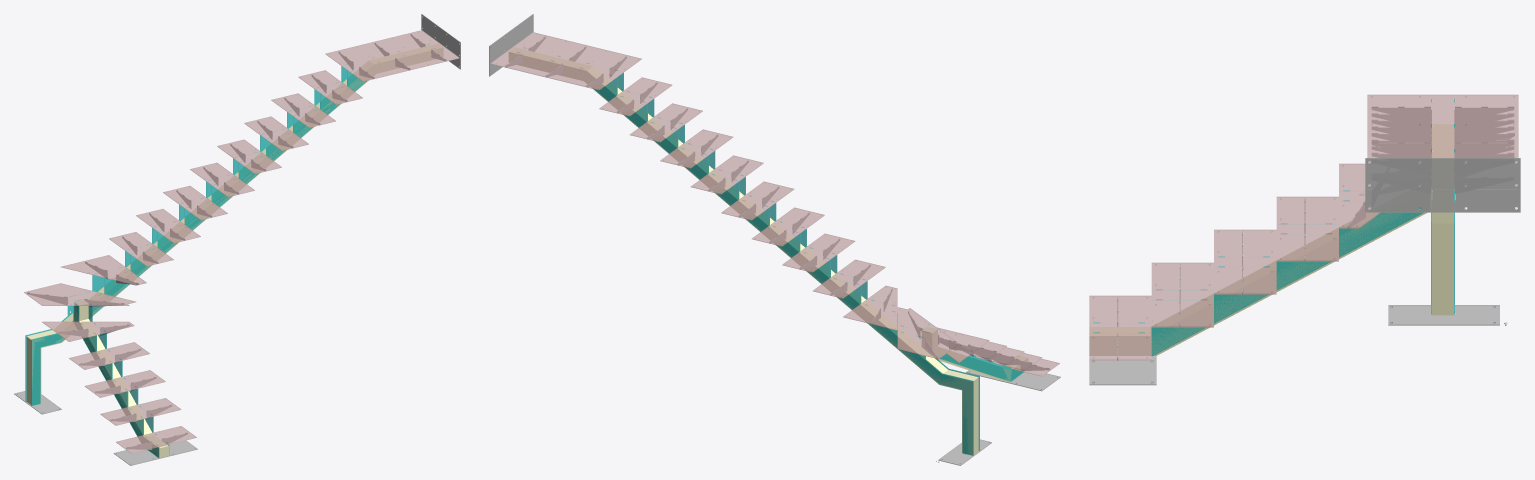
Rendered from stadia2.glb.
3 renders of one model, left to right at view 1: azimuth 30°, elevation 25°; view 2: azimuth 150°, elevation 25°; view 3: azimuth 270°, elevation 25°, orthographic. The views are drawn at different scales.
Parts seen in each view (by area): view 1: Труба_100_100_Б, instance_17.034, Косоур_БП, Труба_100_100_М, instance_15.004, Косоур_БЛ.001, instance_16.018, instance_14.011, Ступень__пластина.137, Ступень__пластина.056, Ступень__пластина.245, Ступень__пластина.029 (+12 smaller); view 2: Труба_100_100_Б, instance_17.034, Косоур_БЛ.001, instance_15.004, Труба_100_100_М, instance_16.018, Ступень__пластина.272, Ступень__пластина.002, Ступень__пластина.164, Ступень__пластина.083, Ступень__пластина.218, Ступень__пластина.299 (+7 smaller); view 3: instance_17.034, Труба_100_100_М, Опора_верх.003, Косоур_МП, Ступень__пластина.029, Ступень__пластина.056, Ступень__пластина.137, Ступень__пластина.245, Труба_100_100_Б, Опора_сер.004, instance_14.011, Опора_низ (+4 smaller).
Boxes of the visible parts, left/top/right/bottom form: Труба_100_100_Б: left=26, top=44, right=443, bottom=405; instance_17.034: left=325, top=30, right=459, bottom=81; Косоур_БП: left=31, top=48, right=435, bottom=405; Труба_100_100_М: left=74, top=300, right=168, bottom=458; instance_15.004: left=24, top=283, right=135, bottom=305; Косоур_БЛ.001: left=25, top=43, right=429, bottom=401; instance_16.018: left=61, top=255, right=146, bottom=285; instance_14.011: left=42, top=321, right=134, bottom=341; Ступень__пластина.137: left=84, top=370, right=165, bottom=397; Ступень__пластина.056: left=69, top=342, right=149, bottom=369; Ступень__пластина.245: left=116, top=426, right=196, bottom=453; Ступень__пластина.029: left=100, top=398, right=181, bottom=425; Труба_100_100_Б: left=509, top=47, right=978, bottom=455; instance_17.034: left=490, top=32, right=641, bottom=90; Косоур_БЛ.001: left=517, top=52, right=973, bottom=455; instance_15.004: left=897, top=307, right=958, bottom=359; Труба_100_100_М: left=922, top=327, right=1027, bottom=382; instance_16.018: left=843, top=285, right=897, bottom=330; Ступень__пластина.272: left=629, top=103, right=702, bottom=142; Ступень__пластина.002: left=813, top=259, right=885, bottom=298; Ступень__пластина.164: left=721, top=181, right=794, bottom=220; Ступень__пластина.083: left=690, top=155, right=763, bottom=194; Ступень__пластина.218: left=782, top=233, right=855, bottom=272; Ступень__пластина.299: left=599, top=77, right=672, bottom=116; instance_17.034: left=1367, top=94, right=1518, bottom=186; Труба_100_100_М: left=1089, top=207, right=1427, bottom=355; Опора_верх.003: left=1365, top=158, right=1520, bottom=212; Косоур_МП: left=1094, top=200, right=1423, bottom=356; Ступень__пластина.029: left=1151, top=262, right=1213, bottom=327; Ступень__пластина.056: left=1276, top=196, right=1338, bottom=261; Ступень__пластина.137: left=1214, top=229, right=1276, bottom=294; Ступень__пластина.245: left=1089, top=295, right=1151, bottom=360; Труба_100_100_Б: left=1432, top=124, right=1453, bottom=315; Опора_сер.004: left=1388, top=305, right=1499, bottom=325; instance_14.011: left=1339, top=163, right=1380, bottom=228; Опора_низ: left=1089, top=356, right=1156, bottom=385.
Bounding box in the file's own units: 4.36 × 2.77 × 1.97.
